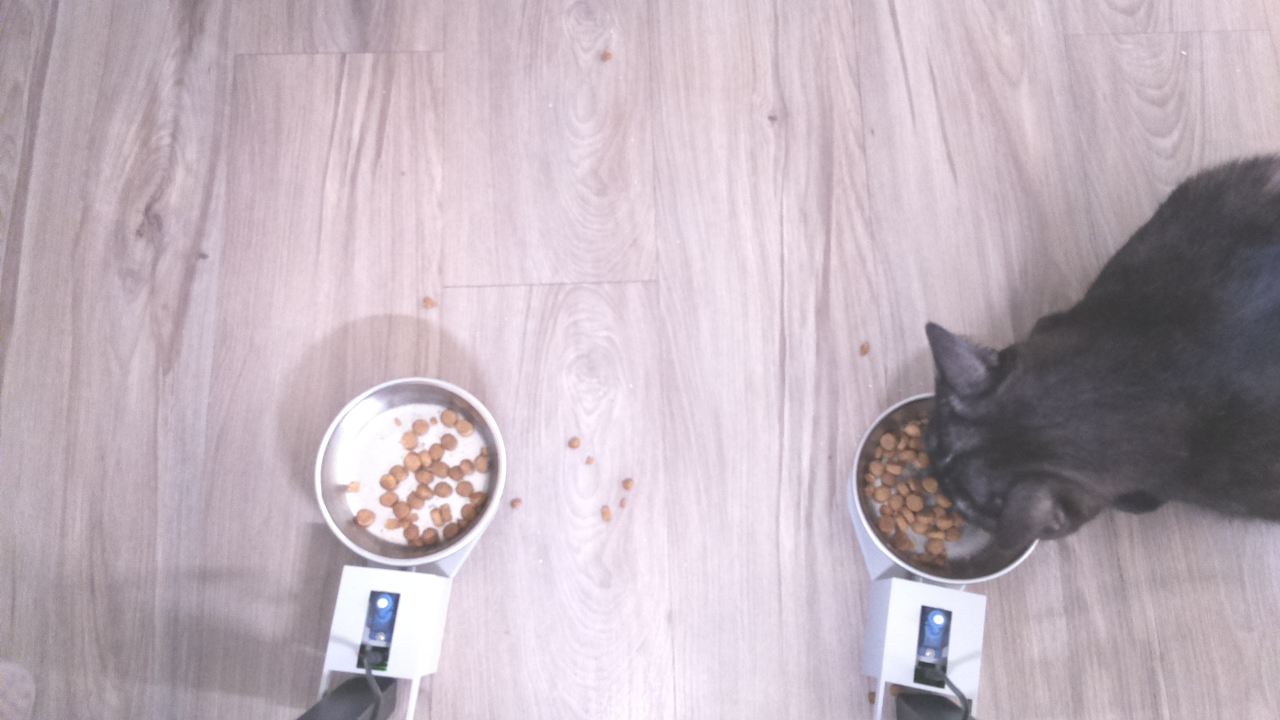open_bowl: (308, 373, 515, 572)
saki_eating: (845, 304, 1102, 598)
